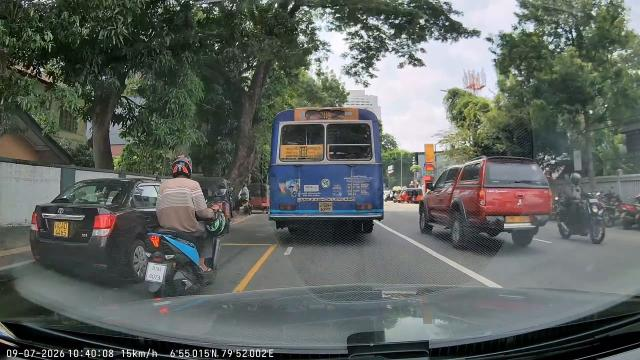illegal overtaking: (411, 148, 558, 254)
